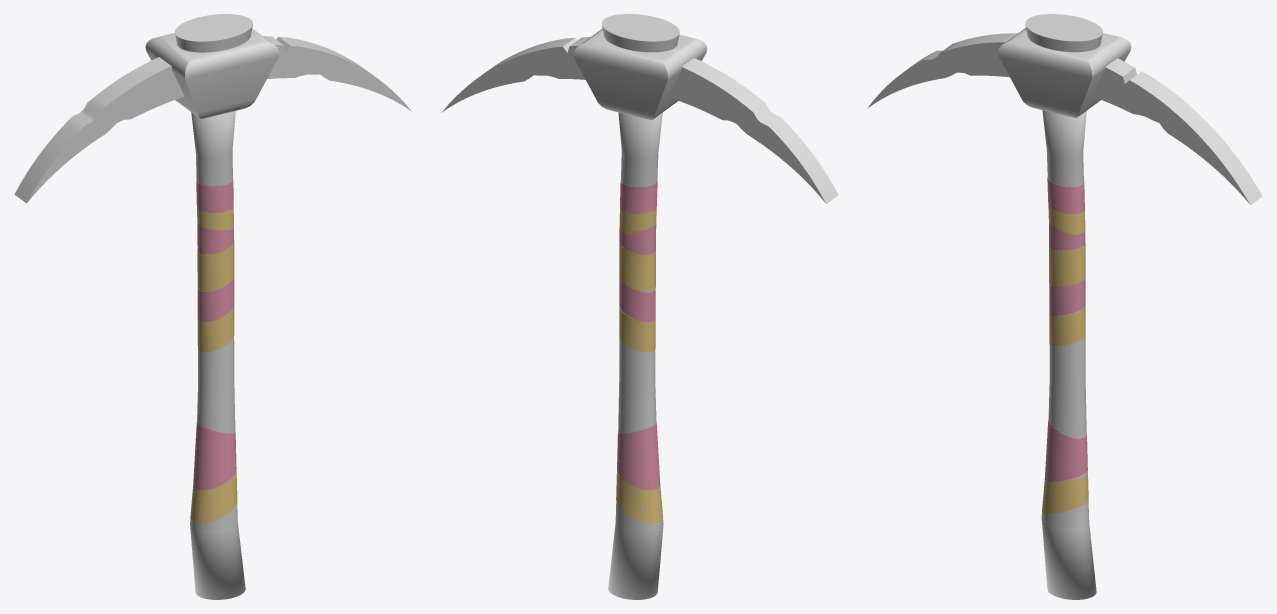
File: Fractured Pickaxe Model.fbx
3 views of the same model, side by side, from view 1: azimuth 30°, elevation 25°; view 2: azimuth 150°, elevation 25°; view 3: azimuth 330°, elevation 25° (orthographic).
Parts seen in each view (by area): view 1: blade_low, bottom_low, cube_low, top_low, Cylinder, Cylinder.001, Cylinder.004, Cylinder.002, Cylinder.003, Cylinder.007, Cylinder.005, Cylinder.006; view 2: blade_low, bottom_low, cube_low, top_low, Cylinder, Cylinder.001, Cylinder.004, Cylinder.002, Cylinder.003, Cylinder.007, Cylinder.005, Cylinder.006; view 3: bottom_low, blade_low, cube_low, top_low, Cylinder, Cylinder.001, Cylinder.004, Cylinder.002, Cylinder.003, Cylinder.007, Cylinder.006, Cylinder.005.
Part boxes in pixels (x1=…): blade_low: x1=14, y1=36, x2=411, y2=203; bottom_low: x1=190, y1=111, x2=245, y2=599; cube_low: x1=145, y1=28, x2=279, y2=118; top_low: x1=175, y1=14, x2=252, y2=52; Cylinder: x1=193, y1=422, x2=236, y2=490; Cylinder.001: x1=190, y1=470, x2=237, y2=523; Cylinder.004: x1=197, y1=240, x2=234, y2=291; Cylinder.002: x1=197, y1=305, x2=234, y2=352; Cylinder.003: x1=197, y1=277, x2=234, y2=322; Cylinder.007: x1=196, y1=179, x2=233, y2=212; Cylinder.005: x1=197, y1=224, x2=233, y2=254; Cylinder.006: x1=197, y1=208, x2=233, y2=230; blade_low: x1=441, y1=36, x2=838, y2=203; bottom_low: x1=608, y1=112, x2=663, y2=599; cube_low: x1=573, y1=28, x2=707, y2=120; top_low: x1=601, y1=14, x2=679, y2=52; Cylinder: x1=617, y1=422, x2=660, y2=490; Cylinder.001: x1=616, y1=471, x2=663, y2=523; Cylinder.004: x1=619, y1=242, x2=655, y2=291; Cylinder.002: x1=619, y1=306, x2=655, y2=352; Cylinder.003: x1=619, y1=278, x2=655, y2=322; Cylinder.007: x1=620, y1=179, x2=657, y2=213; Cylinder.005: x1=619, y1=224, x2=656, y2=255; Cylinder.006: x1=619, y1=208, x2=656, y2=234; bottom_low: x1=1041, y1=110, x2=1096, y2=599; blade_low: x1=867, y1=33, x2=1262, y2=204; cube_low: x1=998, y1=28, x2=1131, y2=118; top_low: x1=1025, y1=14, x2=1102, y2=52; Cylinder: x1=1044, y1=417, x2=1087, y2=481; Cylinder.001: x1=1042, y1=472, x2=1088, y2=513; Cylinder.004: x1=1049, y1=243, x2=1085, y2=286; Cylinder.002: x1=1049, y1=306, x2=1085, y2=346; Cylinder.003: x1=1049, y1=279, x2=1085, y2=316; Cylinder.007: x1=1047, y1=177, x2=1084, y2=213; Cylinder.006: x1=1048, y1=204, x2=1085, y2=235; Cylinder.005: x1=1049, y1=222, x2=1085, y2=250.
Bounding box in the file's own units: 58.84 × 82.31 × 10.39.
